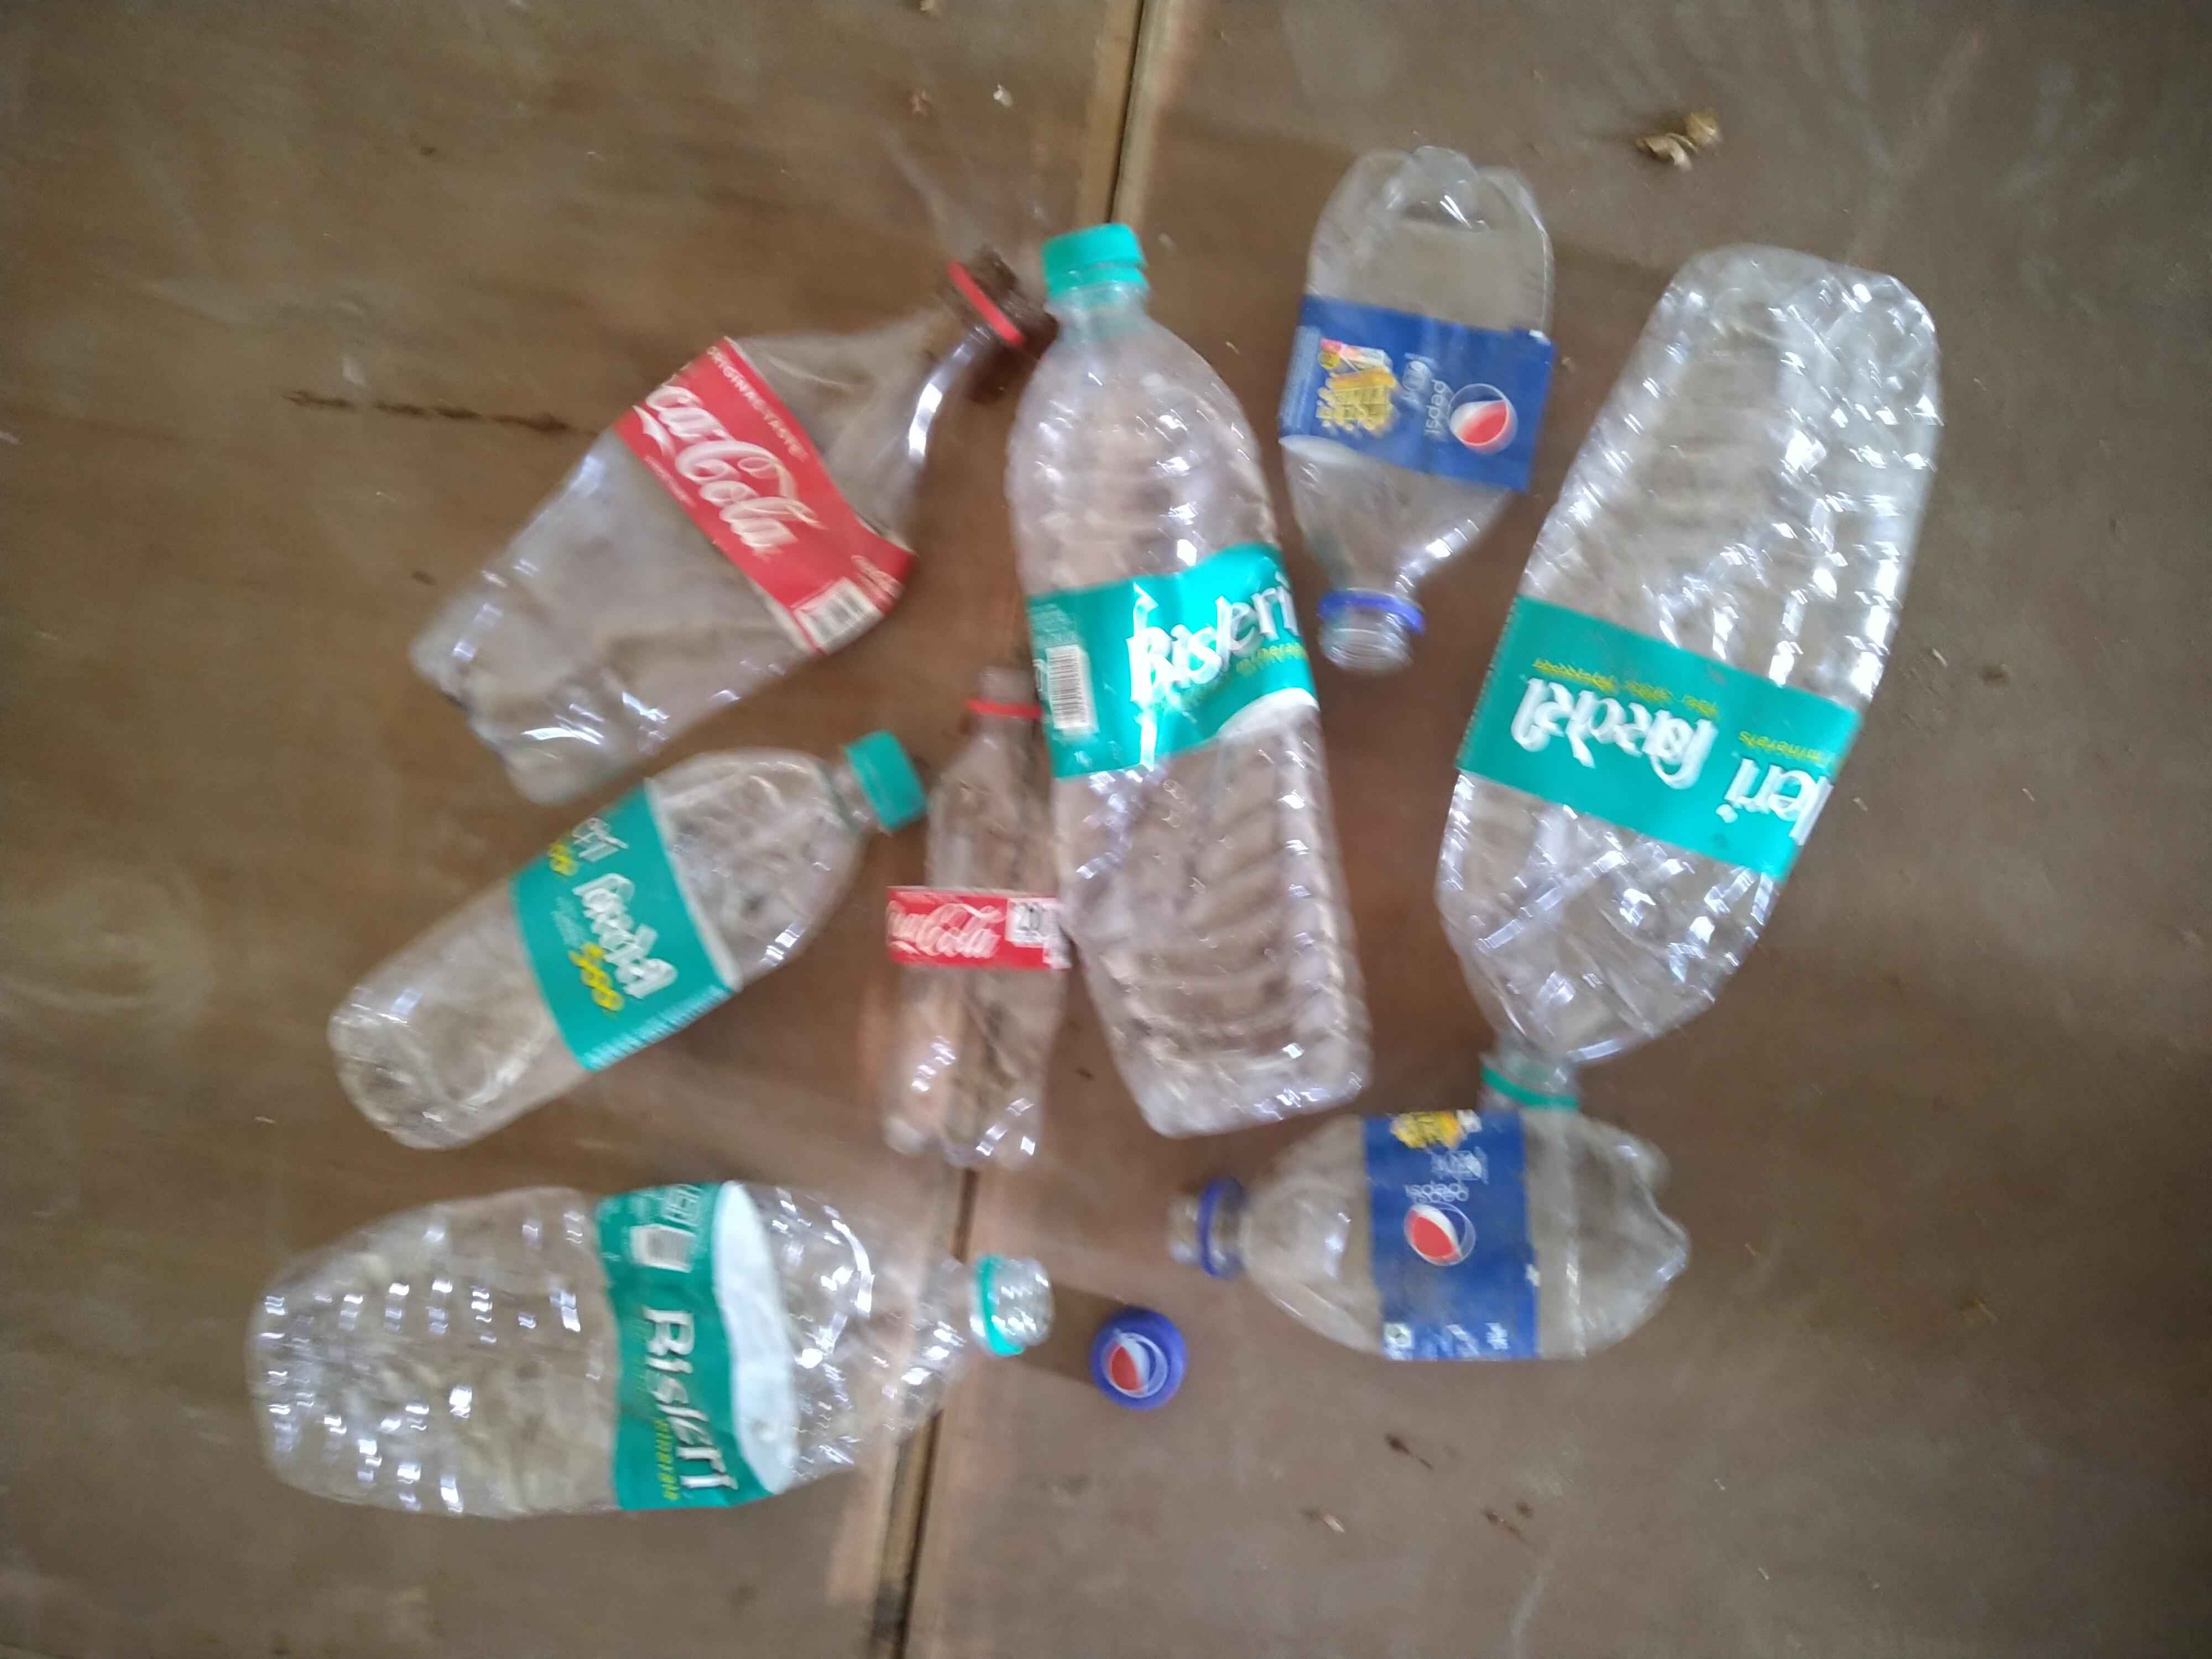Bisleri: (1508, 612, 1808, 838), (611, 1201, 779, 1504), (554, 805, 698, 1030), (1083, 584, 1317, 718)
Coca-Cola: (646, 340, 904, 582), (878, 884, 1076, 965)
pepsi: (1324, 310, 1538, 464), (1385, 1105, 1522, 1326), (1090, 1310, 1205, 1401)
